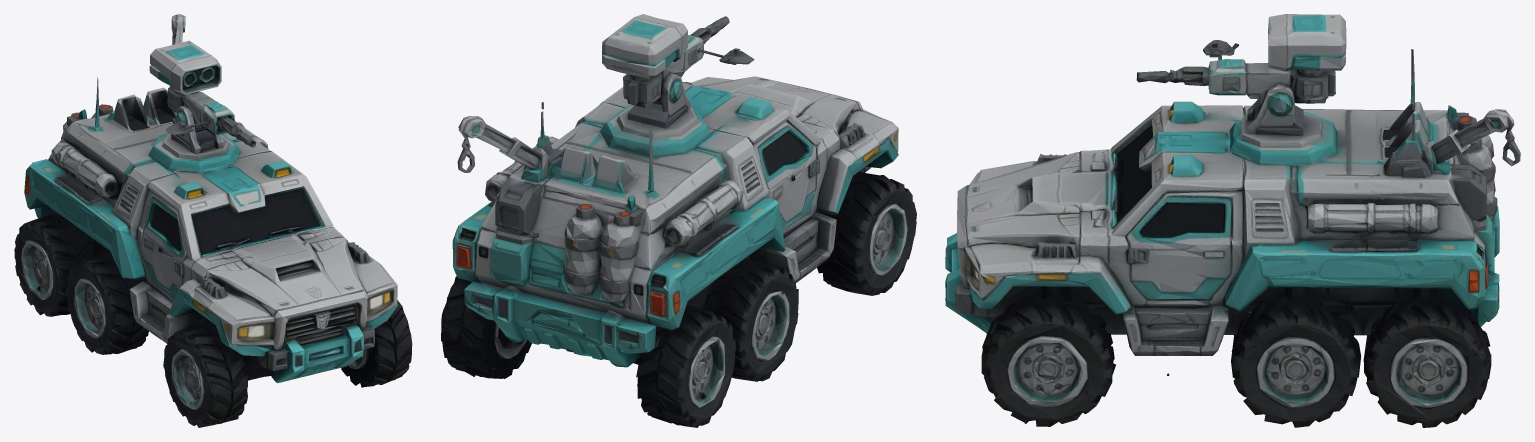
File: fortress-vehicle.glb
The picture shows the model from 3 angles, left to right: view 1: azimuth 30°, elevation 25°; view 2: azimuth 150°, elevation 25°; view 3: azimuth 270°, elevation 25°; orthographic projection. The views are drawn at different scales.
Visible parts, largest first — view 1: geometry_0; view 2: geometry_0; view 3: geometry_0.
Part boxes in pixels (x1,y1,x2,y2): geometry_0: (14,14,412,427); geometry_0: (441,14,916,427); geometry_0: (945,14,1520,427).
Bounding box in the file's own units: 0.5155 × 0.6663 × 0.9999.
Materials: 1 (1 with a texture image).
